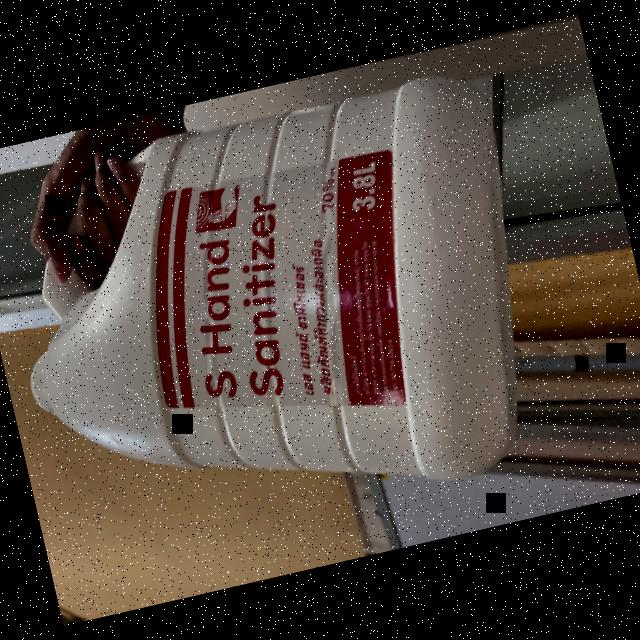chemical_plastic_gallon: (0, 61, 572, 574)
